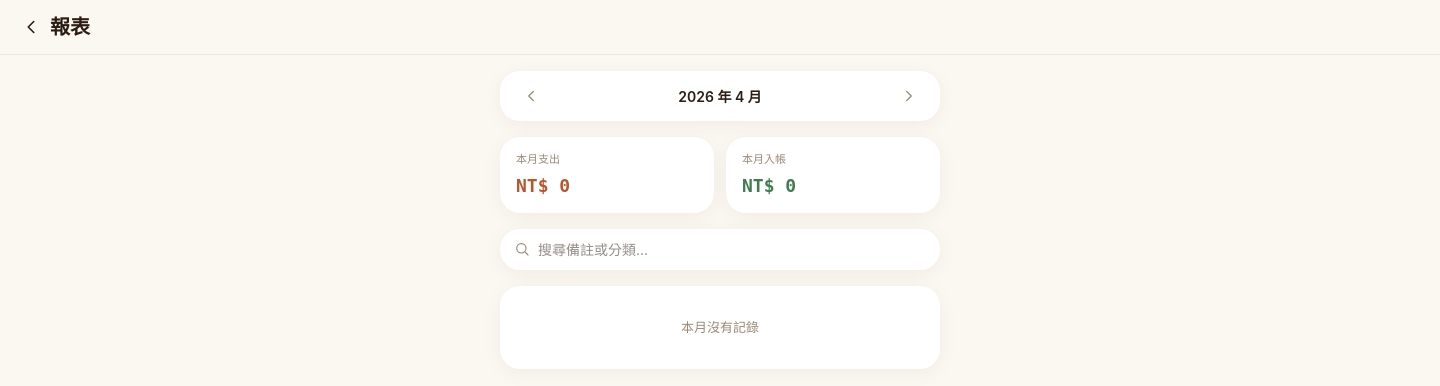
Scenario: ReportView › 搜尋功能 › 清除搜尋按鈕出現後可清除
Type "abc" into the field with placeholder "搜尋備註或分類..." at (732, 249), box [538,238,926,260]
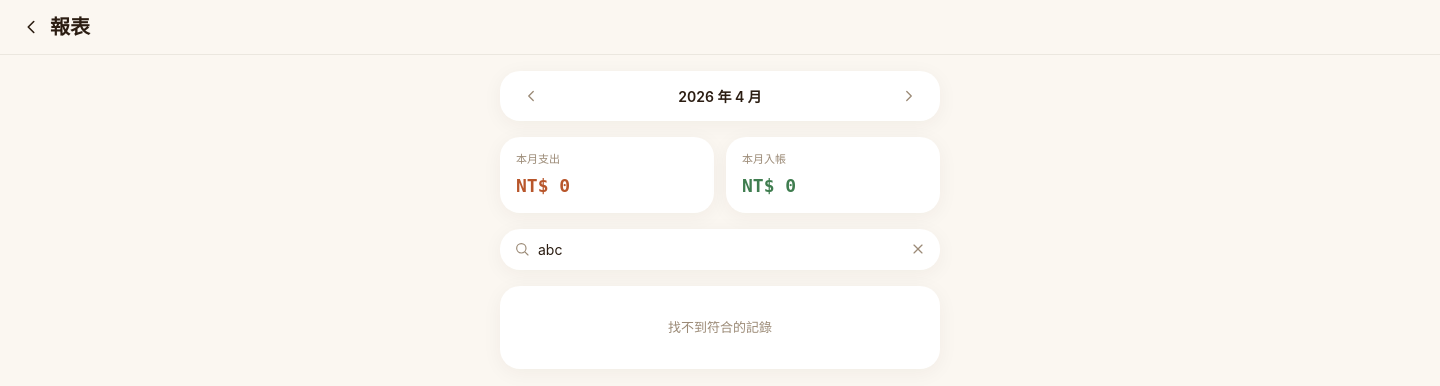
Result: the button named "清除" is shown
Click the button named "清除" at (918, 249), box [910,241,926,257]
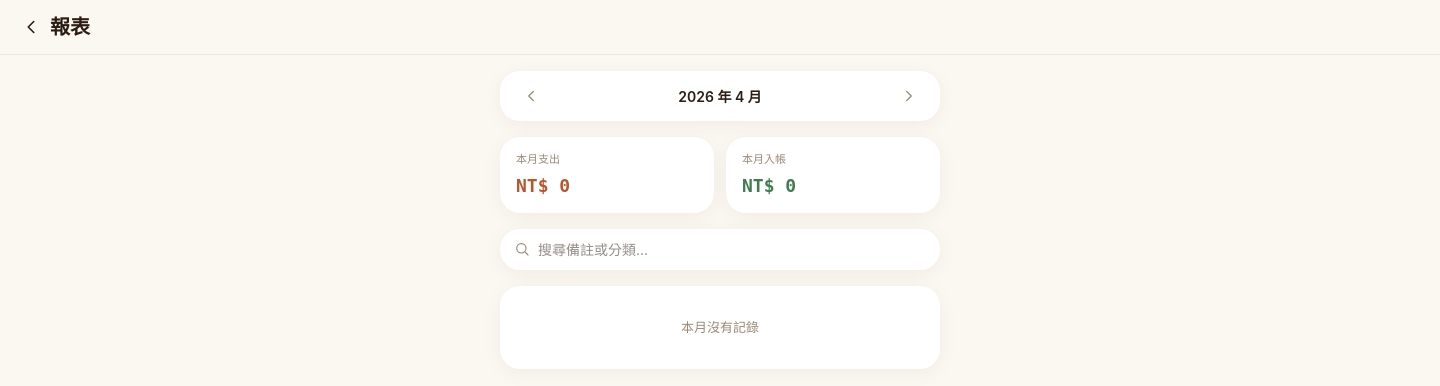
Result: the button "清除" is gone
